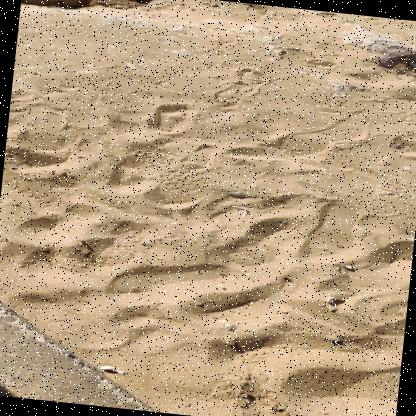Plastic straw: (232, 206, 247, 216)
Unlabeled litter: (327, 296, 343, 307), (99, 365, 123, 372)
